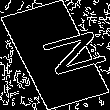N_W: (14, 28, 96, 82)
